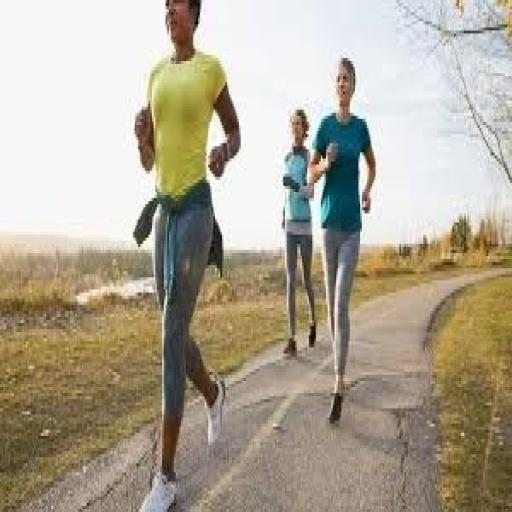running: (131, 0, 244, 509), (307, 52, 379, 430), (278, 104, 319, 362)
